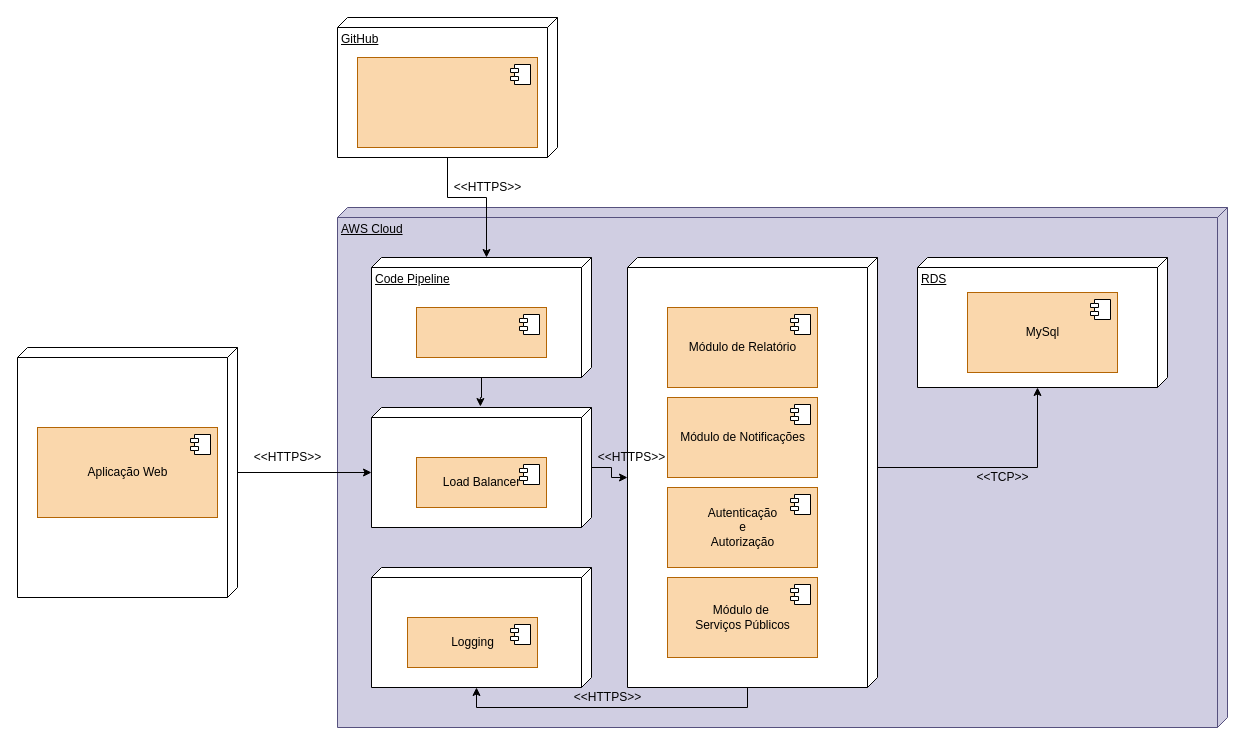
The diagram is 1245 pixels wide and 745 high, and some of its shapes have lost their labels. The box of each missing label's shape, as (x1, y1, x2, y2) in pixels:
CloudWatch: (370, 566, 592, 688)
Elastic Container Service: (626, 256, 878, 688)
Elastic Load Balancer: (370, 406, 592, 528)
Pipeline CI/CD: (416, 306, 546, 358)
Repositório Git: (356, 56, 538, 148)
Usuário: (16, 346, 238, 598)
